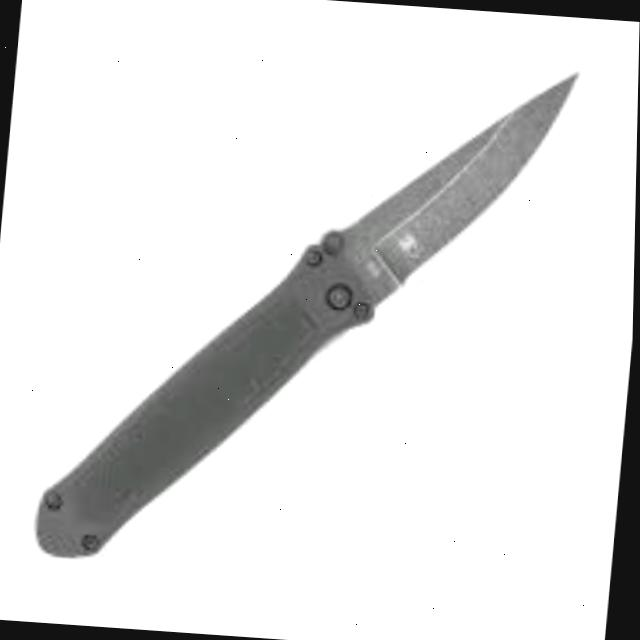knife: (33, 33, 581, 590)
